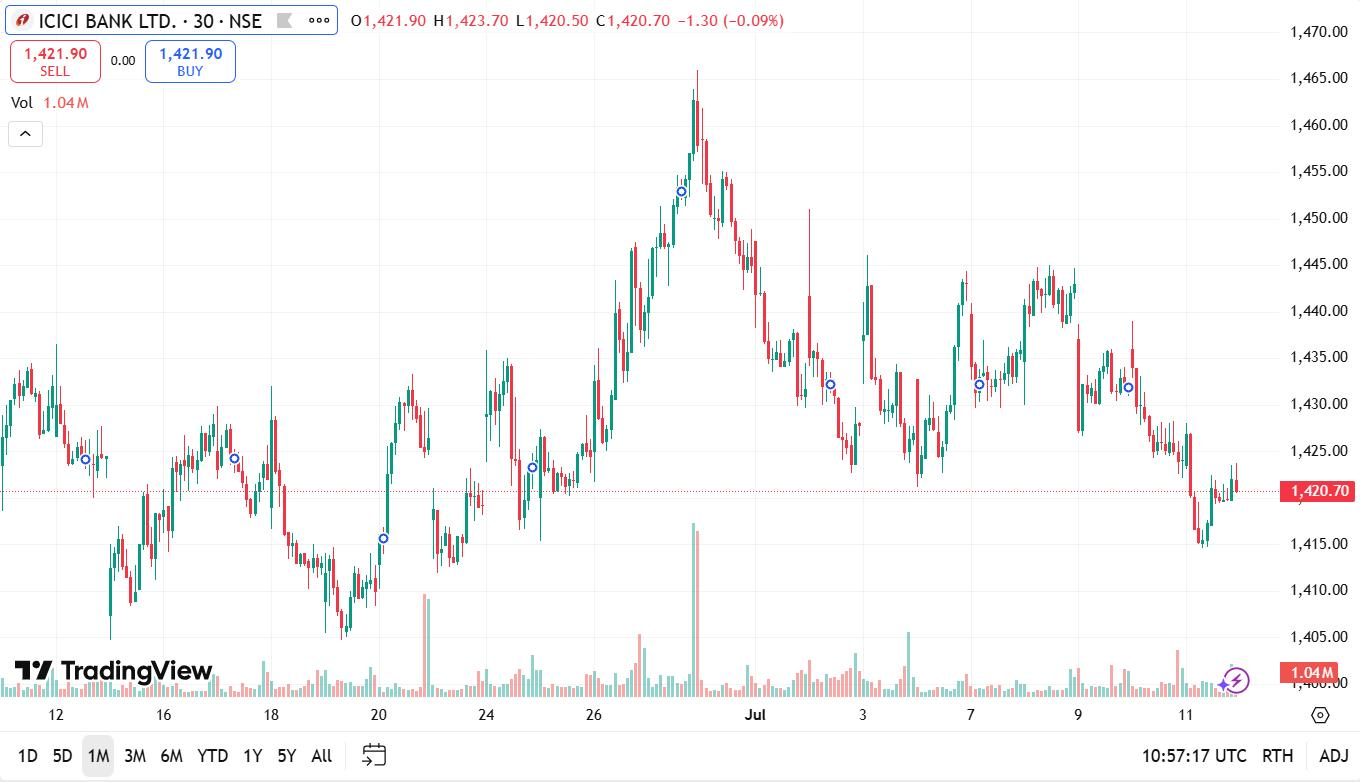Downtrend: (692, 75, 804, 415), (1127, 325, 1207, 561), (862, 264, 925, 494)
Uptrend: (553, 74, 703, 501), (98, 406, 232, 643), (345, 367, 415, 638), (455, 355, 515, 568)
